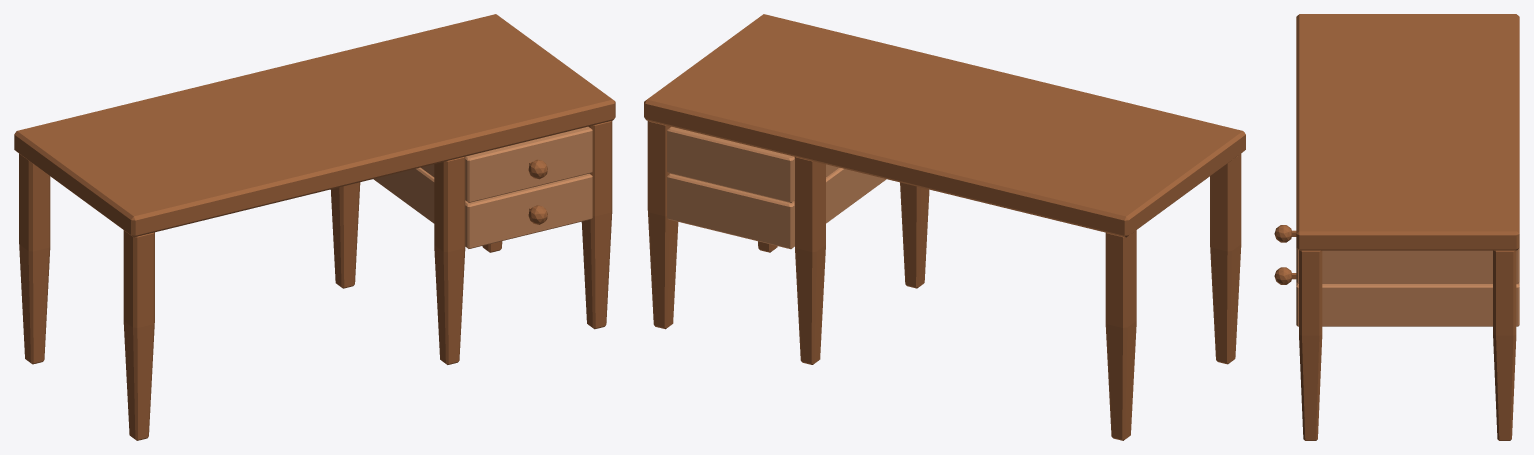
Rendered from Desk.glb.
3 views of the same model, side by side, from view 1: azimuth 30°, elevation 25°; view 2: azimuth 150°, elevation 25°; view 3: azimuth 270°, elevation 25° (orthographic). The views are drawn at different scales.
Parts seen in each view (by area): view 1: Desk; view 2: Desk; view 3: Desk.
Boxes of the visible parts, x1,y1,x2,y2 form: Desk: (14,14,615,440); Desk: (644,14,1245,440); Desk: (1274,14,1519,440).
Bounding box in the file's own units: 949 × 427 × 447.
